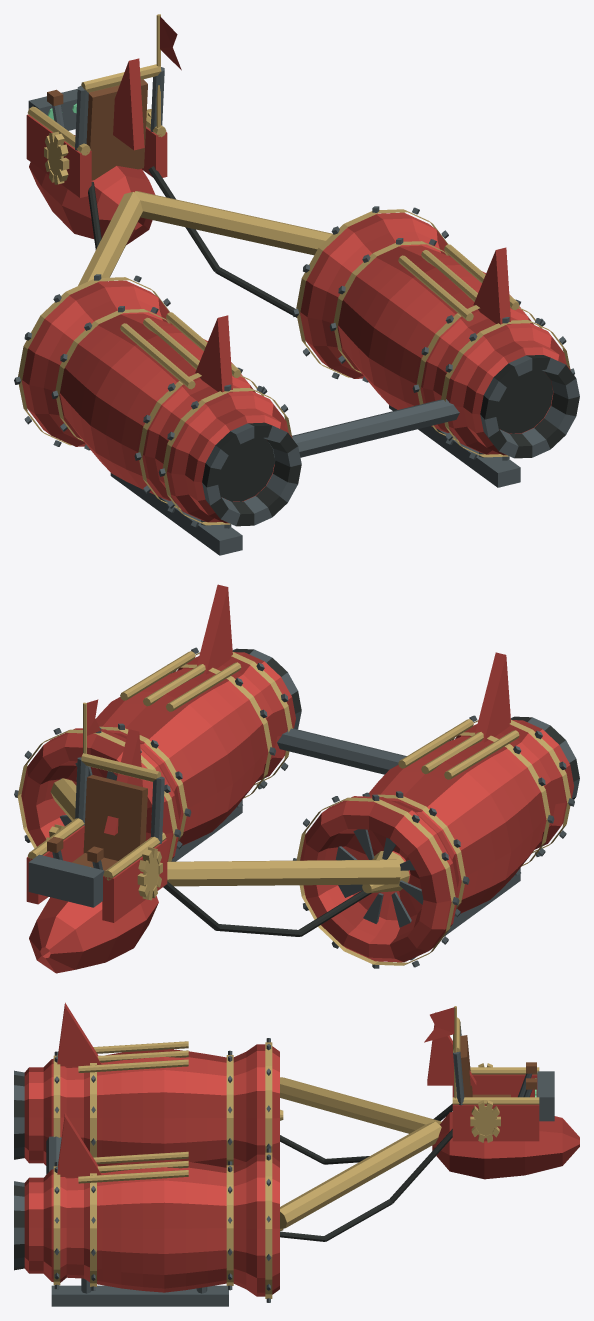
File: dug-racer-crimson.glb
3 views of the same model, one above another, from view 1: azimuth 30°, elevation 25°; view 2: azimuth 150°, elevation 25°; view 3: azimuth 270°, elevation 25° (orthographic). The views are drawn at different scales.
Parts seen in each view (by area): view 1: Faceted engine casing, Faceted engine casing.001, Hollow exhaust.001, Hollow exhaust, VArmR, Cockpit belly, Rear cross brace, Tall seat back, Exhaust recess.001, Exhaust recess, VArmL, Tail rudder (+21 smaller); view 2: Faceted engine casing, Faceted engine casing.001, Cockpit belly, VArmL, Tall seat back, Instrument cowl, Rear cross brace, Cockpit side armor.001, Engine dorsal fin.001, Engine dorsal fin, Riveted hoop.003, Riveted hoop.007 (+28 smaller); view 3: Faceted engine casing.001, Faceted engine casing, Cockpit belly, VArmR, Landing skid.001, VArmL, Cockpit side armor, Engine dorsal fin, Engine dorsal fin.001, Tail rudder, Cockpit side armor.001, Riveted hoop.007 (+25 smaller).
Boxes of the visible parts, x1,y1,x2,y2 form: Faceted engine casing: [22, 280, 292, 523]; Faceted engine casing.001: [300, 212, 570, 455]; Hollow exhaust.001: [480, 355, 579, 458]; Hollow exhaust: [202, 422, 301, 526]; VArmR: [134, 191, 332, 255]; Cockpit belly: [29, 135, 155, 244]; Rear cross brace: [268, 399, 459, 463]; Tall seat back: [86, 79, 147, 180]; Exhaust recess.001: [496, 370, 553, 433]; Exhaust recess: [218, 438, 274, 501]; VArmL: [78, 192, 142, 285]; Tail rudder: [113, 58, 144, 150]; Faceted engine casing: [300, 720, 574, 962]; Faceted engine casing.001: [21, 652, 295, 861]; Cockpit belly: [29, 896, 158, 973]; VArmL: [167, 859, 400, 886]; Tall seat back: [83, 775, 147, 860]; Instrument cowl: [28, 854, 104, 907]; Rear cross brace: [277, 728, 406, 774]; Cockpit side armor.001: [102, 839, 167, 922]; Engine dorsal fin.001: [197, 584, 232, 674]; Engine dorsal fin: [475, 652, 510, 742]; Riveted hoop.003: [296, 797, 455, 965]; Riveted hoop.007: [17, 729, 177, 861]; Faceted engine casing.001: [24, 1154, 279, 1296]; Faceted engine casing: [24, 1044, 279, 1167]; Cockpit belly: [432, 1112, 579, 1179]; VArmR: [280, 1121, 441, 1228]; Landing skid.001: [51, 1285, 228, 1306]; VArmL: [280, 1077, 441, 1133]; Cockpit side armor: [452, 1104, 539, 1141]; Engine dorsal fin: [57, 1002, 101, 1066]; Engine dorsal fin.001: [57, 1113, 101, 1176]; Tail rudder: [427, 1012, 476, 1085]; Cockpit side armor.001: [452, 1074, 537, 1097]; Riveted hoop.007: [265, 1152, 272, 1298].
Size of the model in its own units: 5.03 by 3.4 by 6.84.
